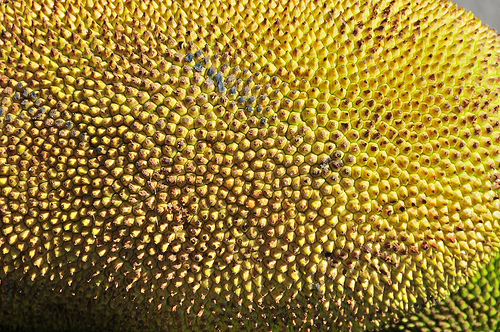jackfruit: (1, 2, 499, 331)
